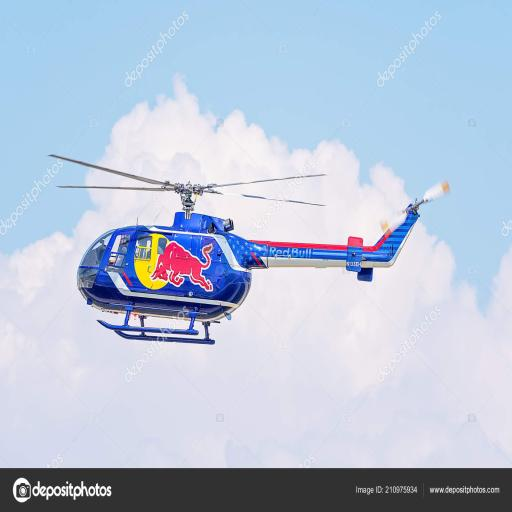helicopter: (49, 154, 454, 342)
